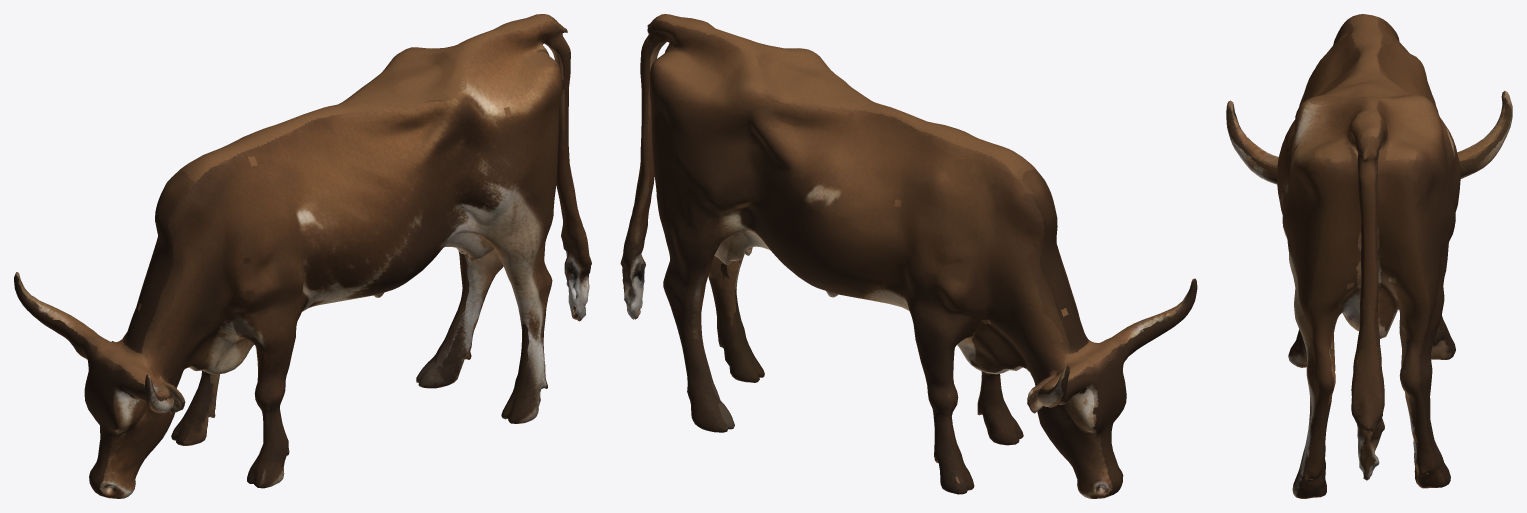
Rendered from vaca.glb.
3 views of the same model, side by side, from view 1: azimuth 30°, elevation 25°; view 2: azimuth 150°, elevation 25°; view 3: azimuth 270°, elevation 25° (orthographic). The views are drawn at different scales.
Visible parts, largest first — view 1: temp_mesh.ply; view 2: temp_mesh.ply; view 3: temp_mesh.ply.
Boxes of the visible parts, bbox=[...] form: temp_mesh.ply: bbox=[14, 14, 591, 498]; temp_mesh.ply: bbox=[620, 14, 1197, 498]; temp_mesh.ply: bbox=[1226, 14, 1512, 498].
Size of the model in its own units: 2.2 by 1.53 by 1.
1 material, 1 textured.
